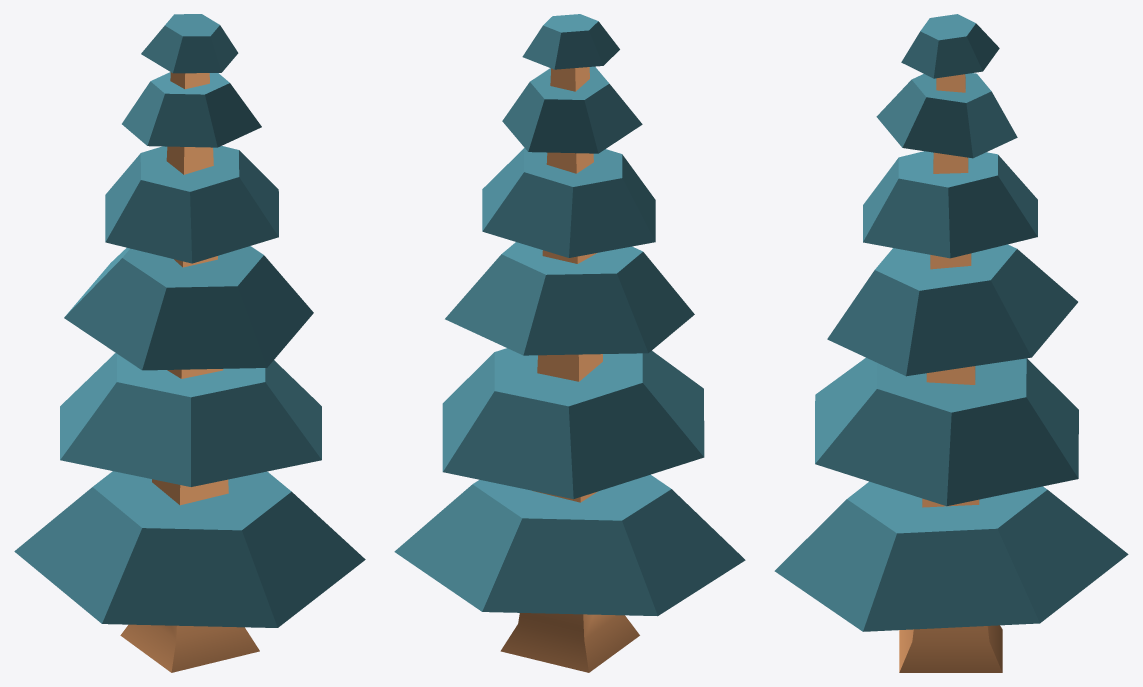
File: tree_pineSmall_round5.obj
The picture shows the model from 3 angles, left to right: view 1: azimuth 30°, elevation 25°; view 2: azimuth 150°, elevation 25°; view 3: azimuth 270°, elevation 25°; orthographic projection.
Visible parts, largest first — view 1: tree_pineSmall_round5; view 2: tree_pineSmall_round5; view 3: tree_pineSmall_round5.
Boxes of the visible parts, bbox=[...] form: tree_pineSmall_round5: bbox=[14, 14, 365, 672]; tree_pineSmall_round5: bbox=[394, 14, 745, 672]; tree_pineSmall_round5: bbox=[774, 14, 1128, 672].
Size of the model in its own units: 5.32 by 11.96 by 6.13.
